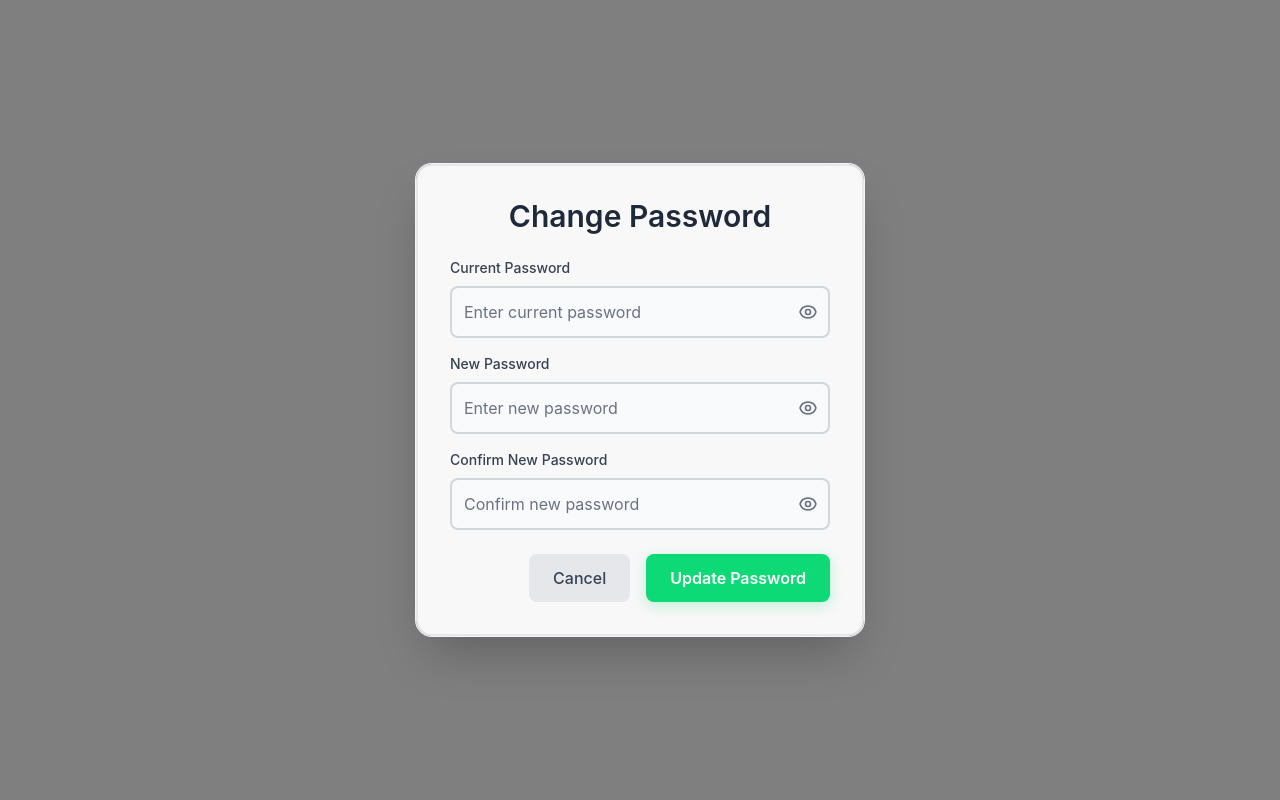
ChangePasswordModal › Form Validation › should show error when new password is too short
Type "currentPass123" into the password field labelled "Current Password".
click(640, 312); type("currentPass123")  # box left=450, top=286, right=830, bottom=338
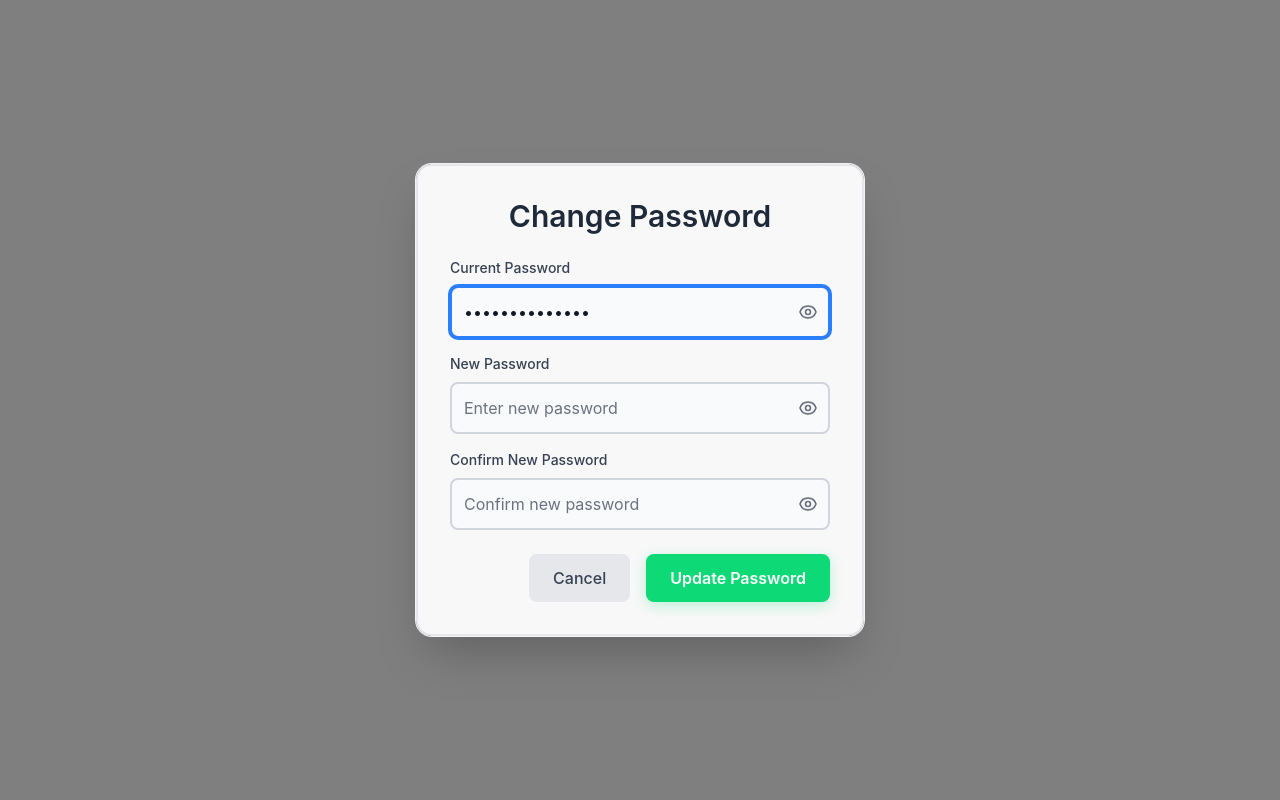
Type "short" into the password field labelled "New Password".
click(640, 408); type("short")  # box left=450, top=382, right=830, bottom=434
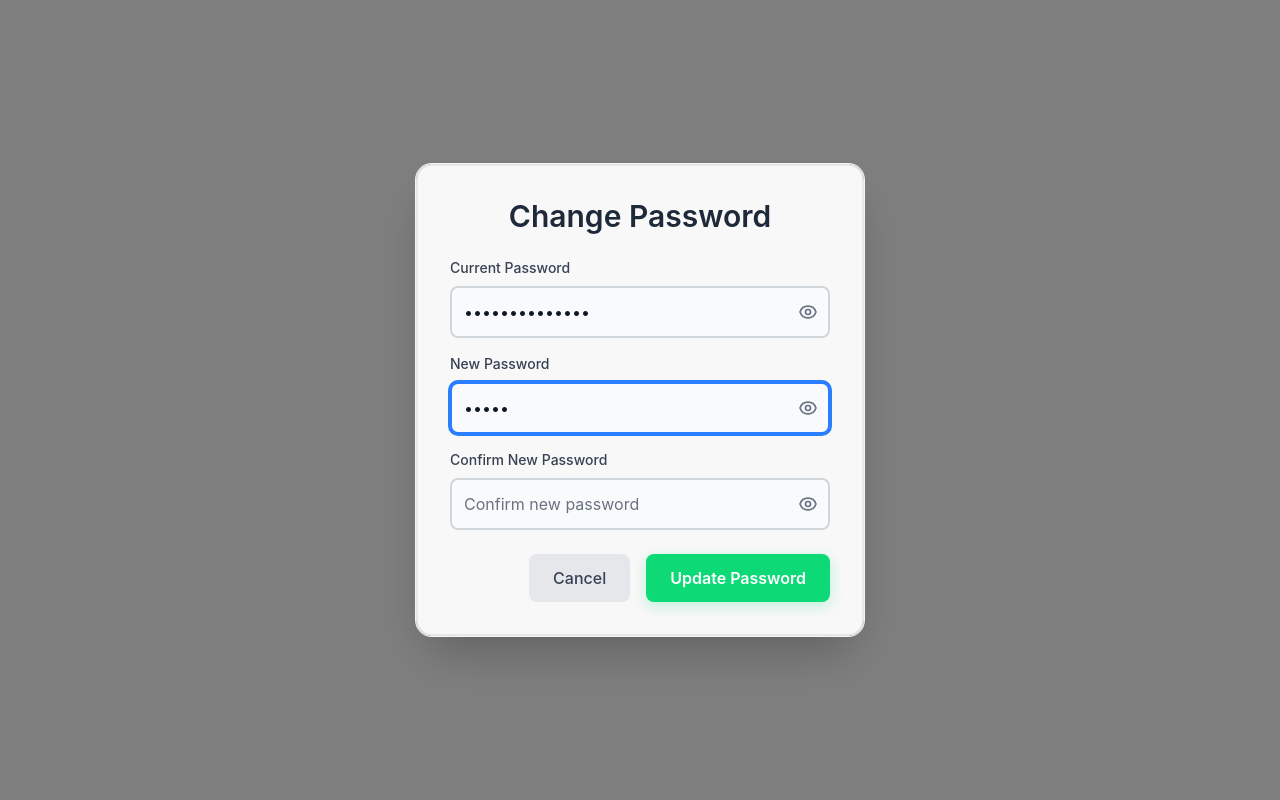
Type "short" into the password field labelled "Confirm New Password".
click(640, 504); type("short")  # box left=450, top=478, right=830, bottom=530
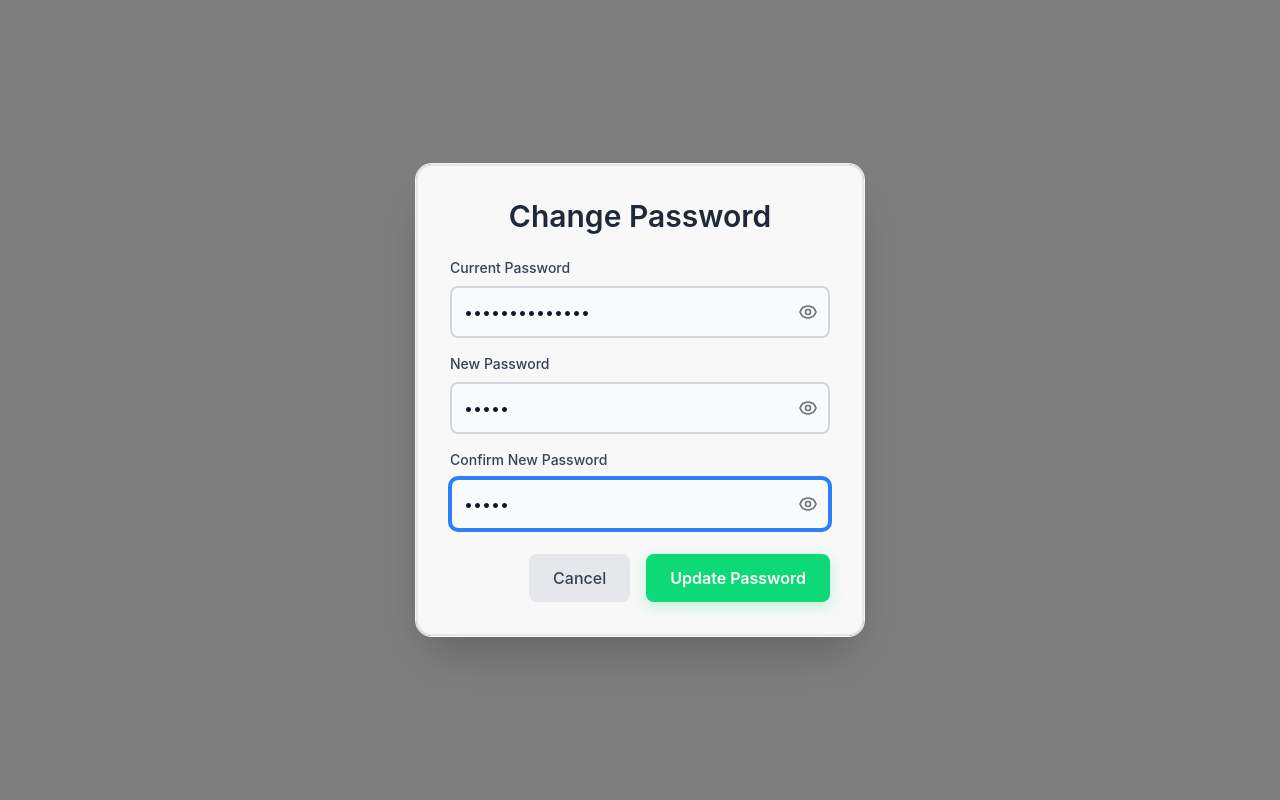
Click the button "Update Password".
click(738, 578)  # box left=646, top=554, right=830, bottom=602
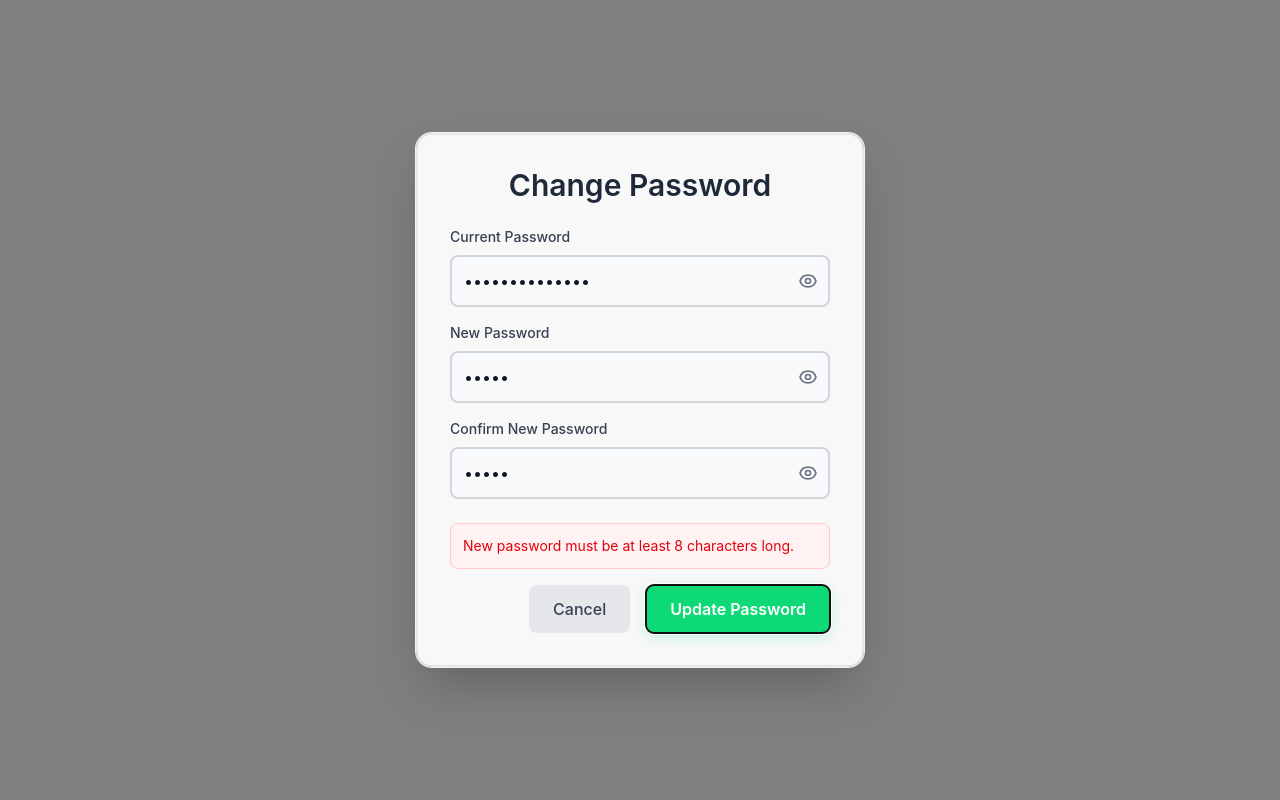
Expected: the text "New password must be at least 8 characters long." is shown, left=463, top=536, right=817, bottom=556
